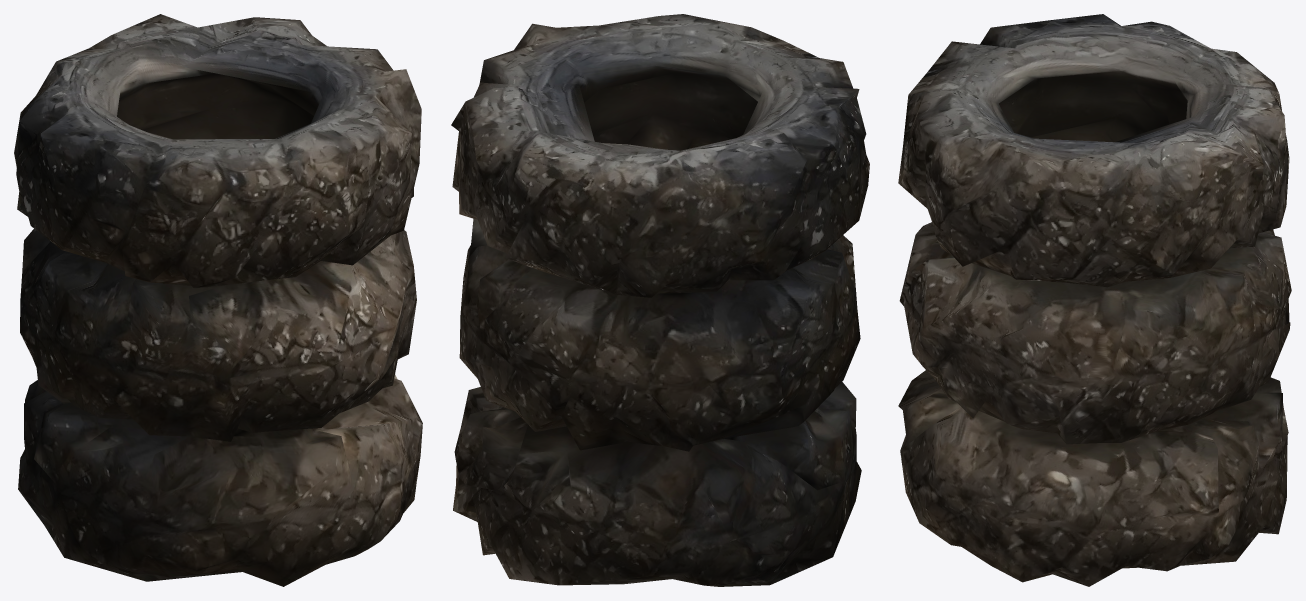
Rendered from gomme1.glb.
The picture shows the model from 3 angles, left to right: view 1: azimuth 30°, elevation 25°; view 2: azimuth 150°, elevation 25°; view 3: azimuth 270°, elevation 25°; orthographic projection. The views are drawn at different scales.
Visible parts, largest first — view 1: tripo_node_6c0a4f90-a7dc-49f0-99ad-8169cdc31f34; view 2: tripo_node_6c0a4f90-a7dc-49f0-99ad-8169cdc31f34; view 3: tripo_node_6c0a4f90-a7dc-49f0-99ad-8169cdc31f34.
Part boxes in pixels (x1=…): tripo_node_6c0a4f90-a7dc-49f0-99ad-8169cdc31f34: x1=14, y1=14, x2=422, y2=586; tripo_node_6c0a4f90-a7dc-49f0-99ad-8169cdc31f34: x1=451, y1=14, x2=869, y2=586; tripo_node_6c0a4f90-a7dc-49f0-99ad-8169cdc31f34: x1=898, y1=14, x2=1291, y2=586.
Bounding box in the file's own units: 0.8364 × 1 × 0.8284.
Materials: 1 (1 with a texture image).
